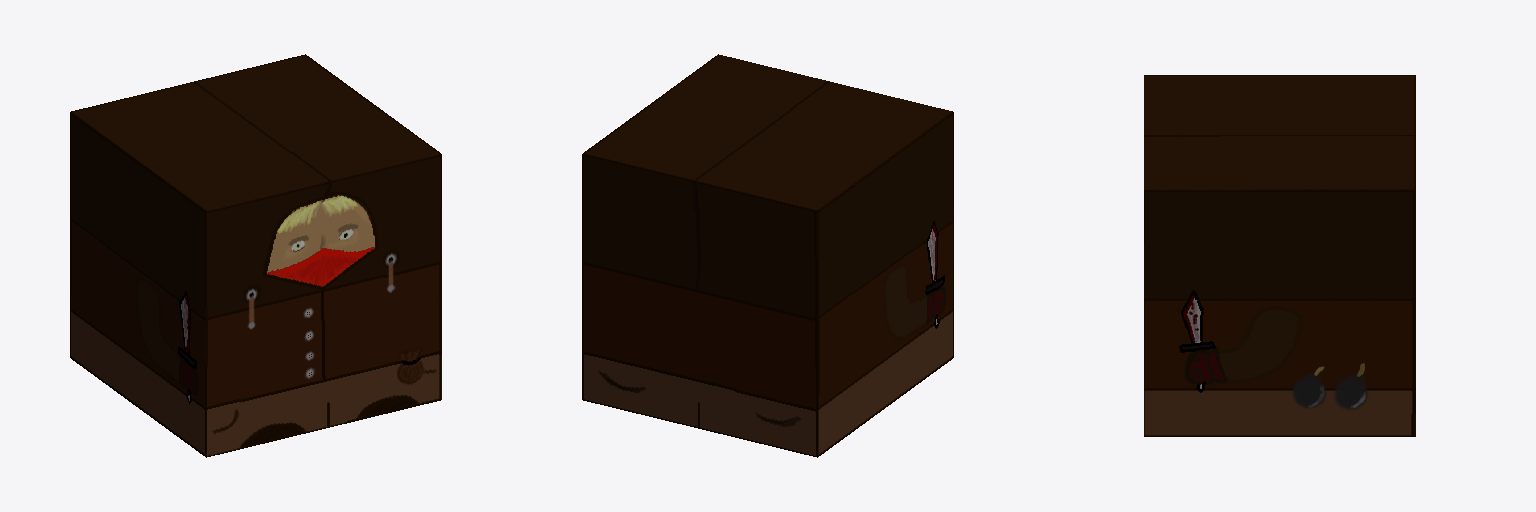
The picture shows the model from 3 angles: view 1: azimuth 30°, elevation 25°; view 2: azimuth 150°, elevation 25°; view 3: azimuth 270°, elevation 25°; orthographic projection.
Parts seen in each view (by area): view 1: Cube; view 2: Cube; view 3: Cube.
Boxes of the visible parts, box(x1,y1,x2,y2) form: Cube: box(70, 54, 441, 457); Cube: box(582, 54, 953, 457); Cube: box(1144, 75, 1415, 436).
Bounding box in the file's own units: 2 × 2 × 2.
1 materials, 1 textured.